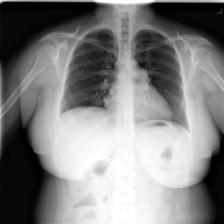normal: (55, 21, 193, 134)
